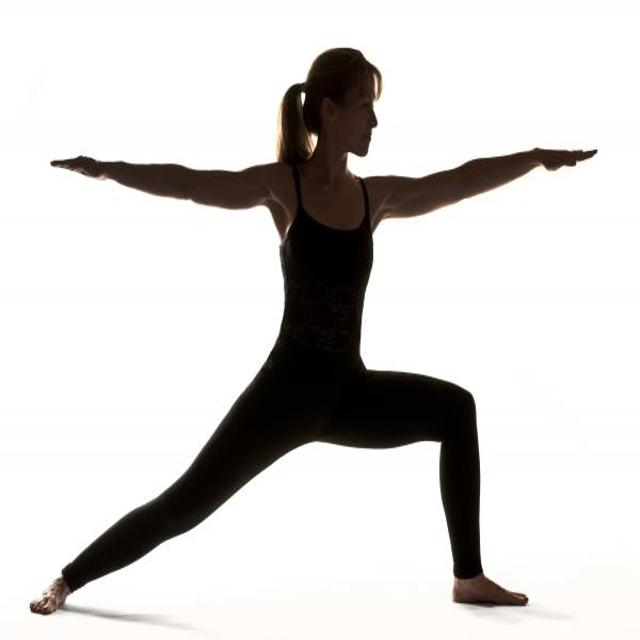Warrior_II: (27, 47, 601, 617)
